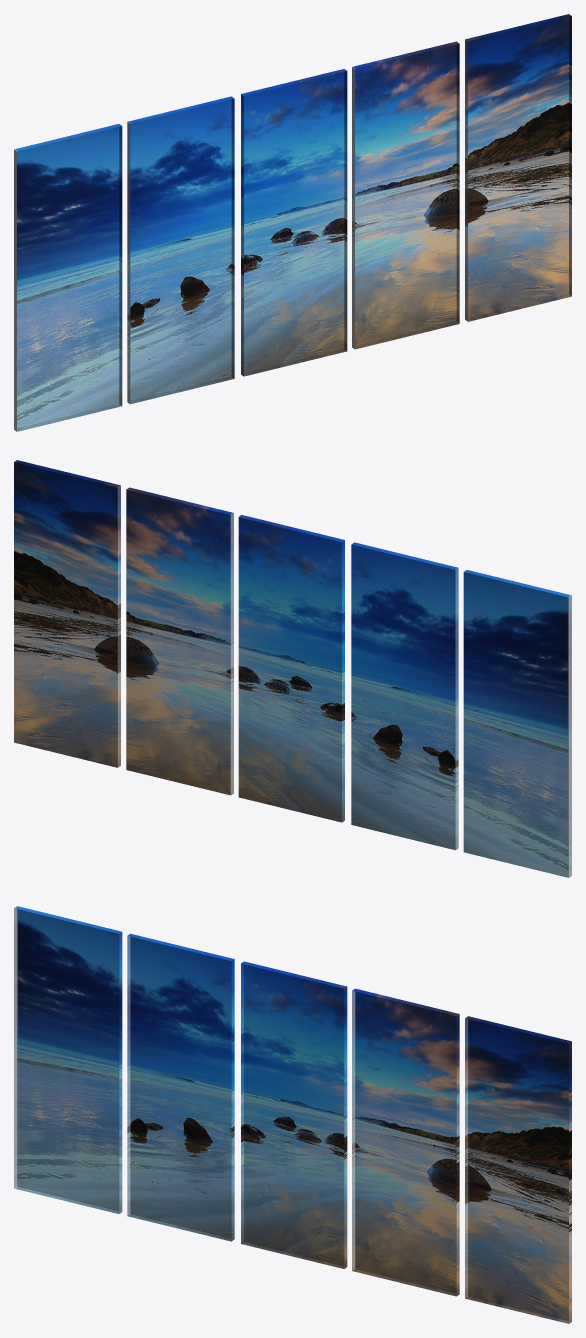
Rendered from Oriental Five Paintings Large.FBX.
The picture shows the model from 3 angles, top to bottom: view 1: azimuth 30°, elevation 25°; view 2: azimuth 150°, elevation 25°; view 3: azimuth 330°, elevation 25°; orthographic projection.
Visible parts, largest first — view 1: Oriental_Cuadros_C; view 2: Oriental_Cuadros_C; view 3: Oriental_Cuadros_C.
Boxes of the visible parts, <box> form: Oriental_Cuadros_C: <box>14,14,571,431</box>; Oriental_Cuadros_C: <box>14,460,571,877</box>; Oriental_Cuadros_C: <box>14,906,571,1323</box>.
Bounding box in the file's own units: 253 × 122 × 2.37.
1 material, 1 textured.
